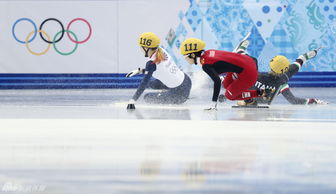fall: (183, 34, 333, 112)
